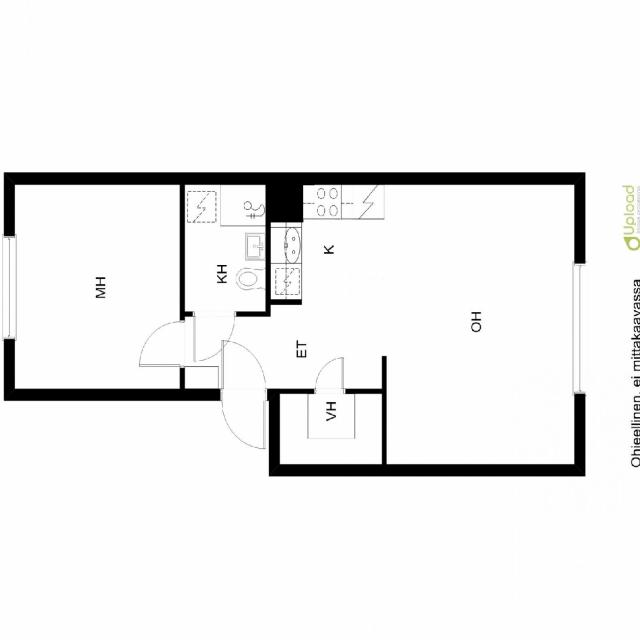door: (221, 388, 265, 448), (221, 340, 265, 400), (194, 311, 234, 360), (140, 322, 184, 366), (316, 357, 344, 394)
